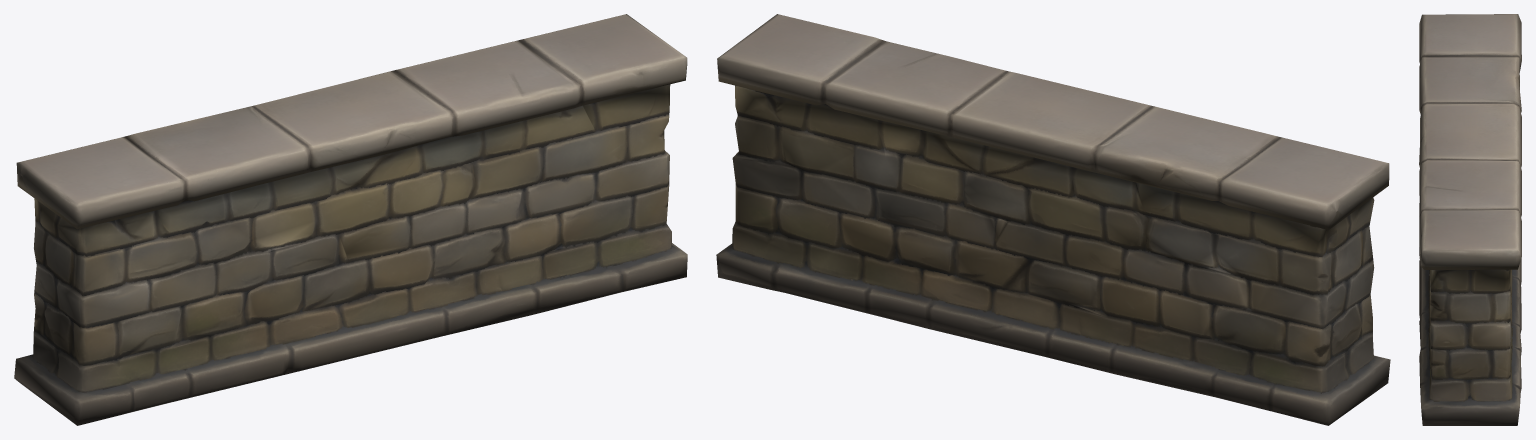
File: WallLow.fbx
3 views of the same model, side by side, from view 1: azimuth 30°, elevation 25°; view 2: azimuth 150°, elevation 25°; view 3: azimuth 270°, elevation 25° (orthographic). The views are drawn at different scales.
Visible parts, largest first — view 1: WallLow; view 2: WallLow; view 3: WallLow.
Boxes of the visible parts, x1,y1,x2,y2 form: WallLow: (14,14,687,425); WallLow: (716,14,1390,425); WallLow: (1419,14,1521,425).
Bounding box in the file's own units: 0.9956 × 0.3441 × 0.1809.
